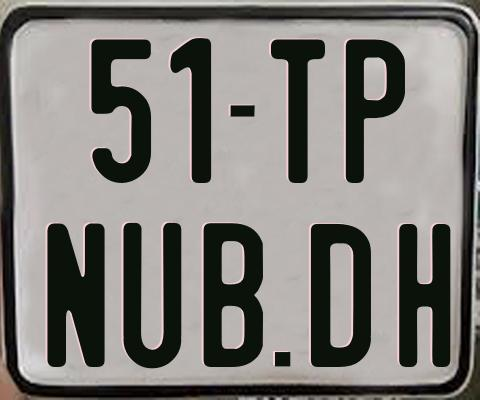1: (167, 38, 211, 183)
5: (90, 39, 154, 188)
B: (203, 220, 268, 368)
D: (310, 222, 371, 370)
H: (396, 224, 453, 372)
N: (46, 222, 106, 368)
P: (345, 37, 407, 182)
T: (271, 37, 325, 185)
U: (120, 221, 181, 366)
